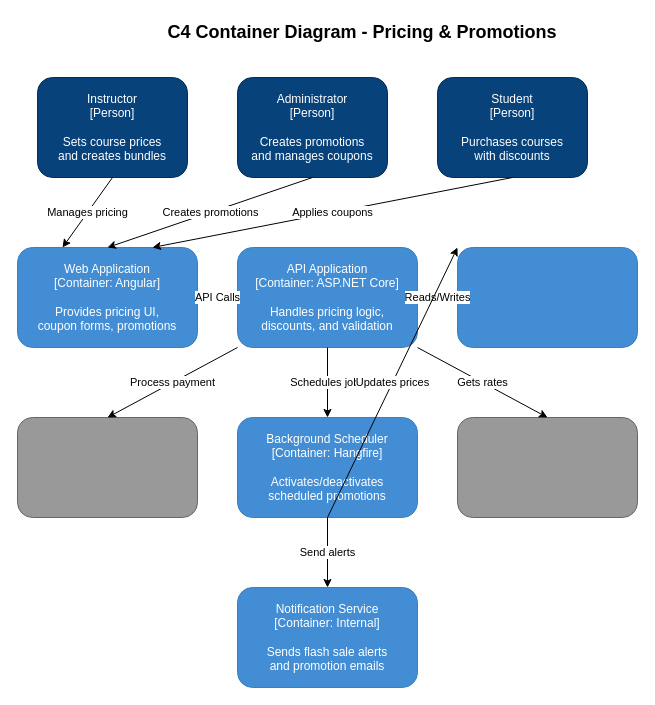
Some shapes in this 655 by 705 pixel diagram are drawn without their labels. Here are the shapes that lost their labels. From the top down, the centre of each, then its label:
At [547,297]: "Database [Container: SQL Server] Stores prices, coupons, promotions, bundles".
At [107,467]: "Payment Gateway [External System] Processes payments with discounts applied".
At [547,467]: "Exchange Rate API [External System] Provides currency conversion rates".
